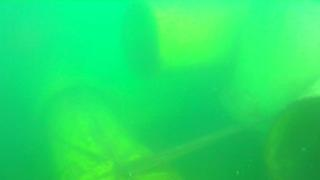pipe: (29, 74, 175, 180), (217, 1, 320, 124), (118, 1, 239, 83), (261, 78, 320, 180)
